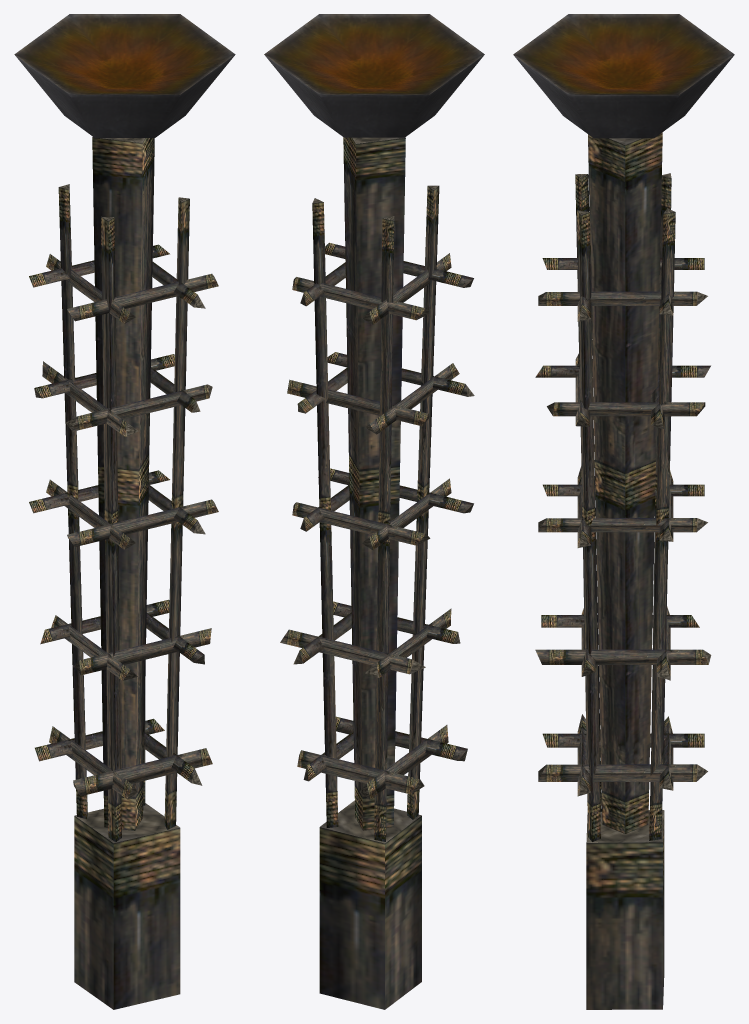
Rendered from weilan_fb_63.FBX.
3 views of the same model, side by side, from view 1: azimuth 30°, elevation 25°; view 2: azimuth 150°, elevation 25°; view 3: azimuth 270°, elevation 25° (orthographic).
Visible parts, largest first — view 1: weilan_fb_63; view 2: weilan_fb_63; view 3: weilan_fb_63.
Boxes of the visible parts, box(x1,y1,x2,y2) form: weilan_fb_63: box(14, 14, 235, 1009); weilan_fb_63: box(264, 14, 484, 1009); weilan_fb_63: box(513, 14, 734, 1009).
Size of what is drawn, in the model's own units: 146 by 786 by 169.
